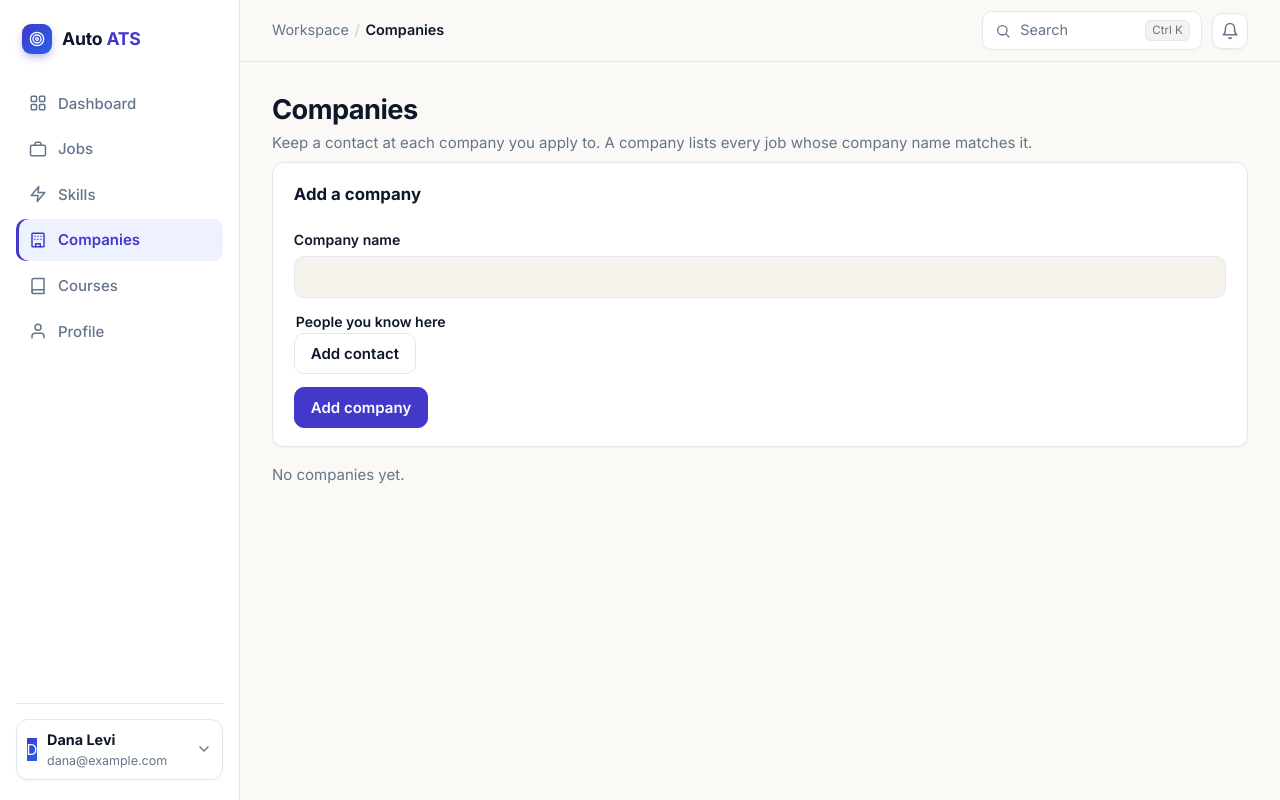
Test: CompaniesPage › GivenBlankName_WhenAdding_ThenErrorIsShownAndNothingSent
Expected: the text "No companies yet." is shown, left=272, top=465, right=404, bottom=484
Click the button "Add company" at [361, 408], box left=294, top=387, right=428, bottom=428
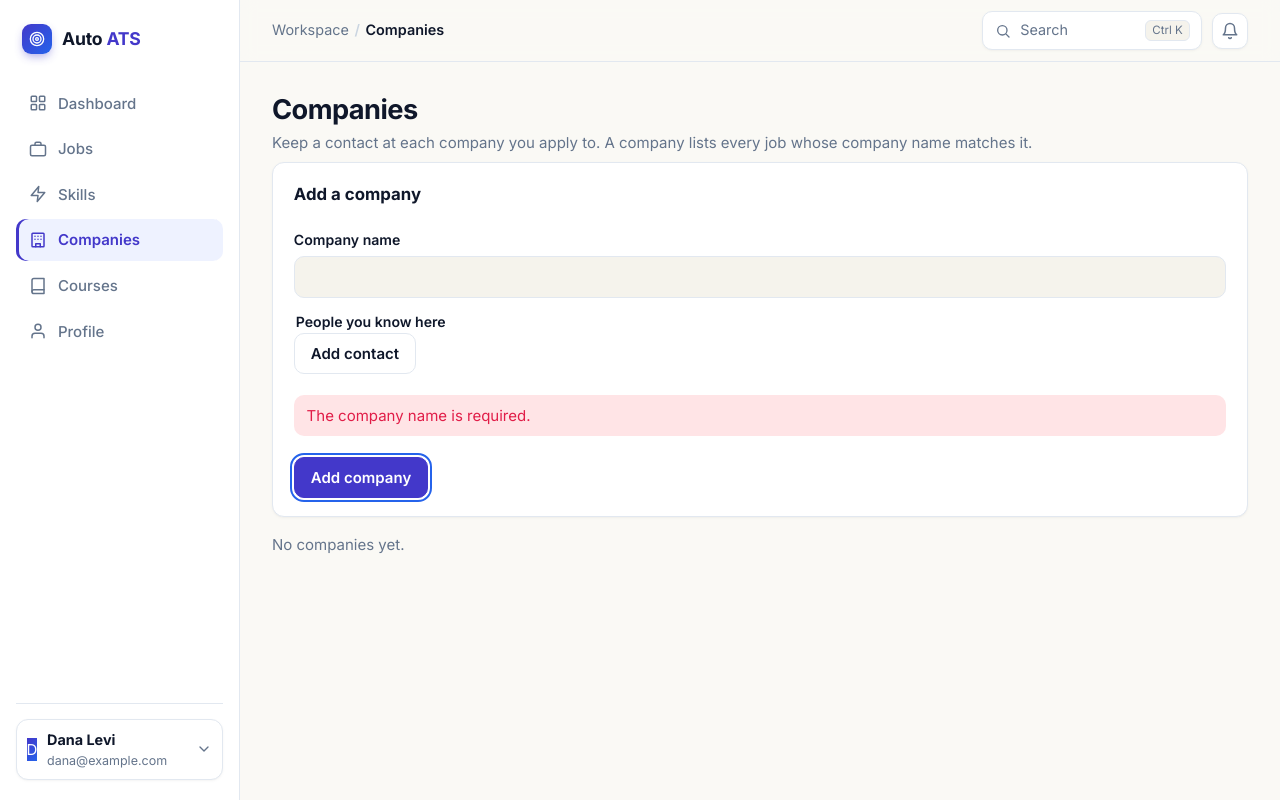
Expected: the text "The company name is required." is shown, left=294, top=395, right=1226, bottom=436
